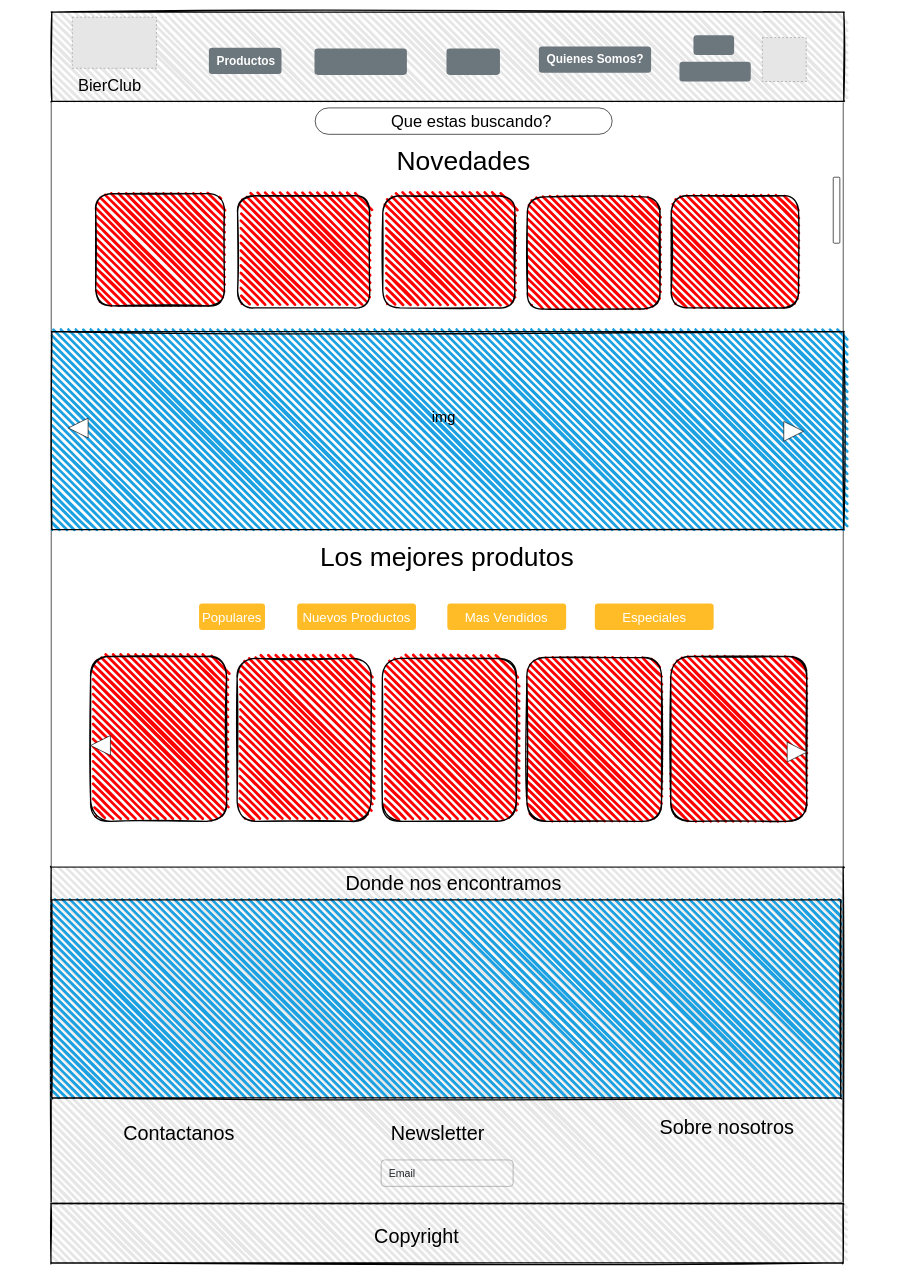
Some shapes in this 914 by 1274 pixel diagram are drawn without their labels. Grey dashed boxes stand in for pictures. The centre of each missing label's shape, as x and y in pixels:
"Envios" goes at [473,61].
"Google map" goes at [446,998].
"Login" goes at [713,45].
"Promociones" goes at [360,61].
"Registrarse" goes at [714,71].
